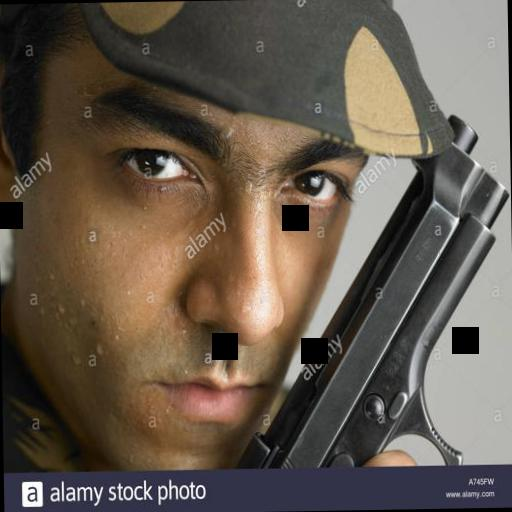Handgun: (224, 117, 512, 468)
